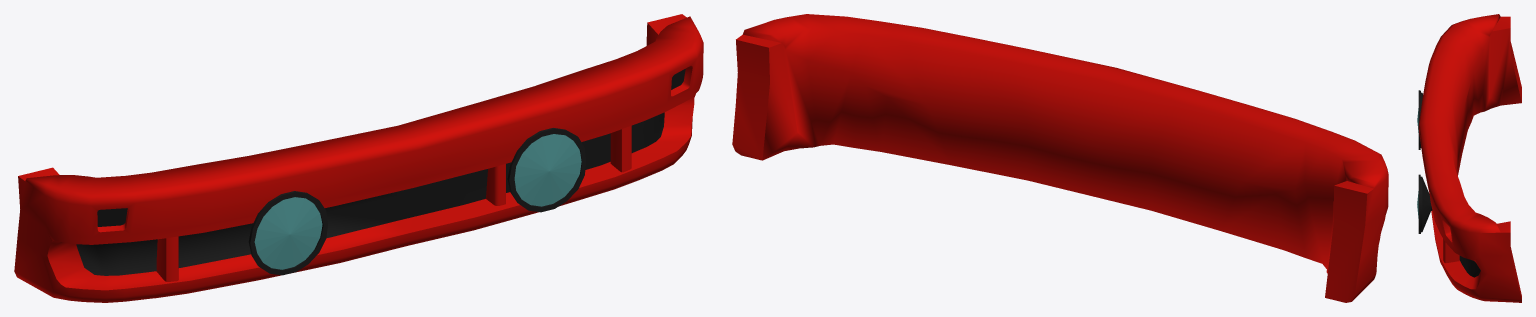
Rendered from Classic_2_Bumper_F_3.fbx.
3 views of the same model, side by side, from view 1: azimuth 30°, elevation 25°; view 2: azimuth 150°, elevation 25°; view 3: azimuth 270°, elevation 25° (orthographic). The views are drawn at different scales.
Visible parts, largest first — view 1: Classic_2_Bumper_F_3; view 2: Classic_2_Bumper_F_3; view 3: Classic_2_Bumper_F_3.
Part boxes in pixels (box(x1,y1,x2,y2)): Classic_2_Bumper_F_3: box(14, 14, 703, 302); Classic_2_Bumper_F_3: box(732, 14, 1388, 302); Classic_2_Bumper_F_3: box(1417, 14, 1521, 302).
Size of the model in its own units: 309 by 51.78 by 63.27.
